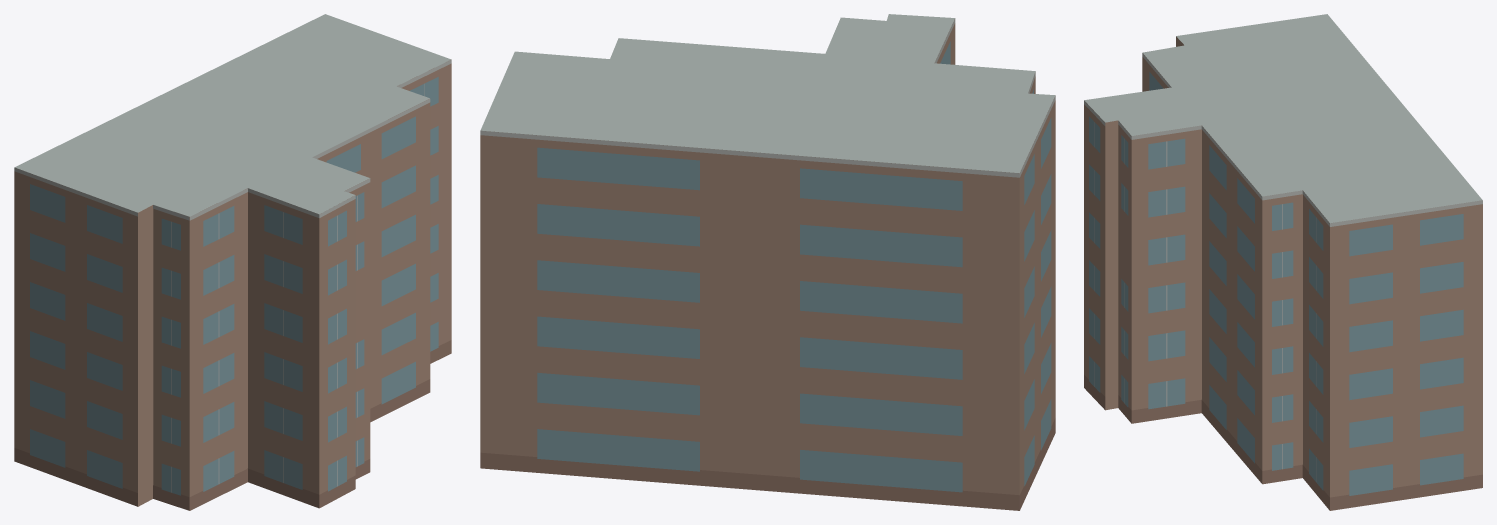
File: survey-upis-32910200.glb
The picture shows the model from 3 angles, left to right: view 1: azimuth 30°, elevation 25°; view 2: azimuth 150°, elevation 25°; view 3: azimuth 270°, elevation 25°; orthographic projection. The views are drawn at different scales.
Parts seen in each view (by area): view 1: survey-upis-32910200.tmp; view 2: survey-upis-32910200.tmp; view 3: survey-upis-32910200.tmp.
Boxes of the visible parts, <box> form: survey-upis-32910200.tmp: <box>14,14,451,510</box>; survey-upis-32910200.tmp: <box>480,14,1055,510</box>; survey-upis-32910200.tmp: <box>1084,14,1482,510</box>.
Bounding box in the file's own units: 28.56 × 18.3 × 23.
